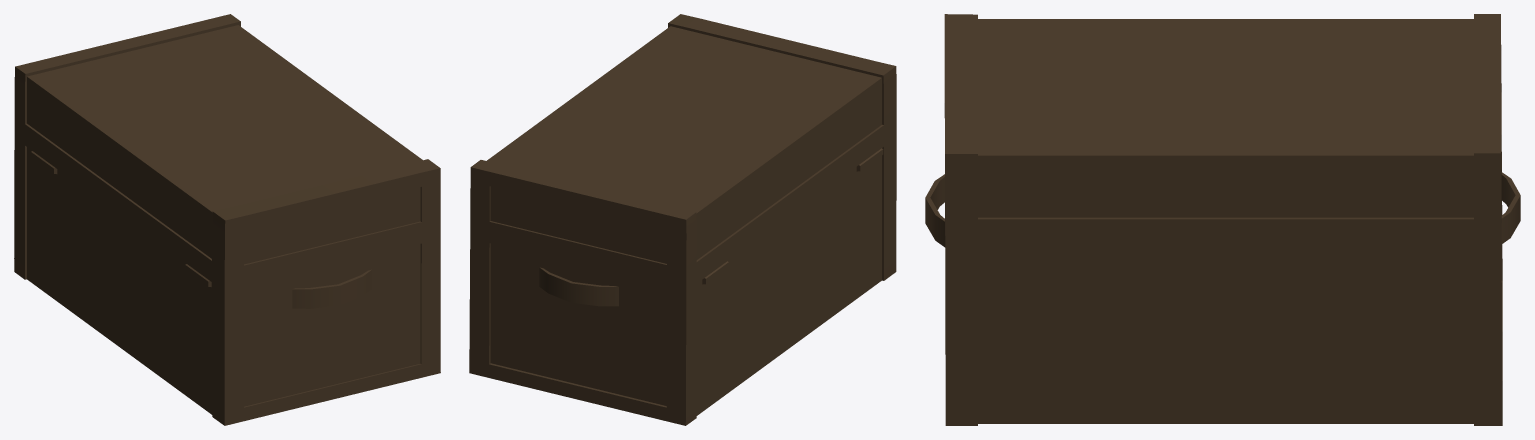
Rendered from Chest.fbx.
3 renders of one model, left to right at view 1: azimuth 30°, elevation 25°; view 2: azimuth 150°, elevation 25°; view 3: azimuth 270°, elevation 25°, orthographic. The views are drawn at different scales.
Parts seen in each view (by area): view 1: Chest_prop; view 2: Chest_prop; view 3: Chest_prop.
Boxes of the visible parts, bbox=[...] form: Chest_prop: bbox=[14, 14, 440, 425]; Chest_prop: bbox=[469, 14, 896, 425]; Chest_prop: bbox=[925, 14, 1520, 425].
Size of the model in its own units: 5.49 by 4.95 by 9.81.
